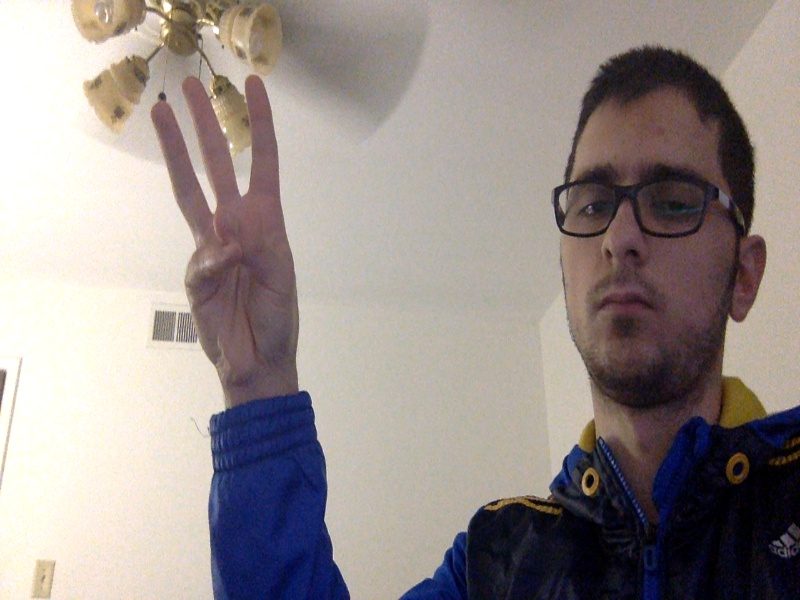3-hand: (153, 76, 313, 396)
